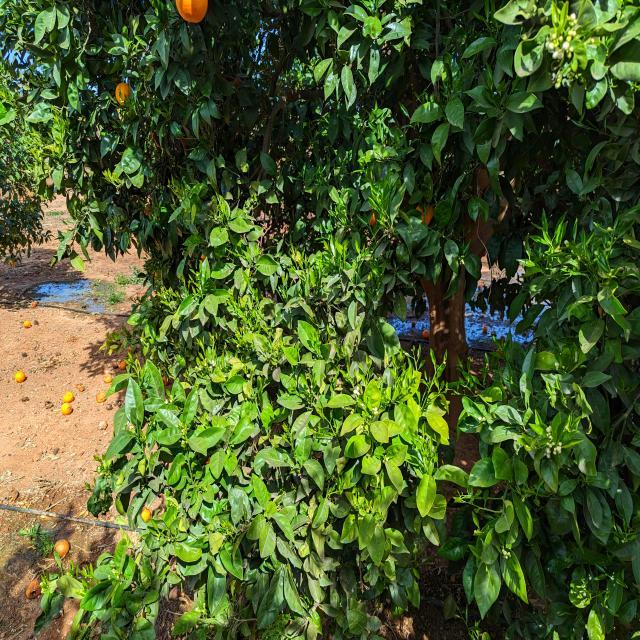Jeruk Sudah Matang: (179, 0, 209, 22), (475, 166, 493, 192), (115, 80, 133, 100), (418, 206, 438, 224), (54, 539, 70, 558), (141, 504, 153, 520), (370, 208, 376, 225), (200, 252, 207, 262)
